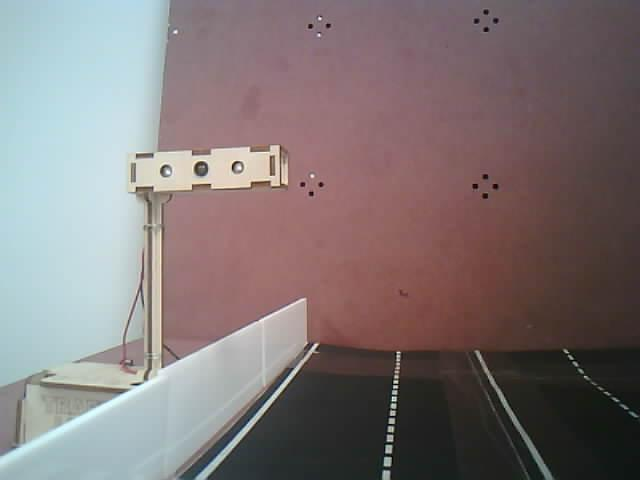no: (106, 135, 314, 215)
